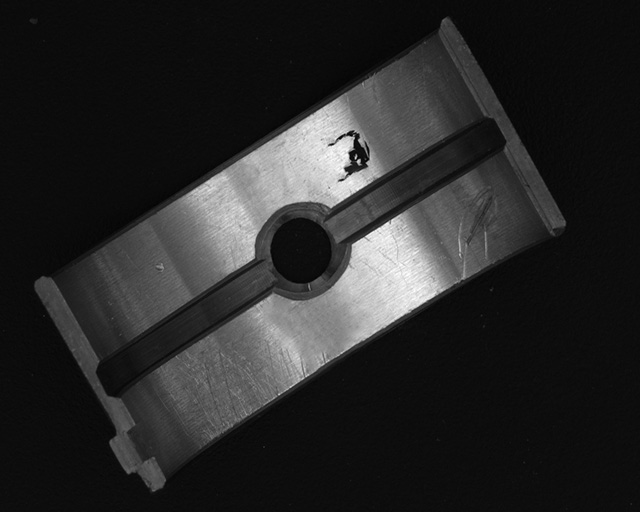blot: (327, 129, 371, 184)
bruise: (153, 262, 165, 274)
gap: (96, 263, 276, 397), (333, 119, 506, 243)
hole: (255, 205, 345, 293)
nick: (457, 184, 501, 282)
scratch: (155, 335, 329, 451)
